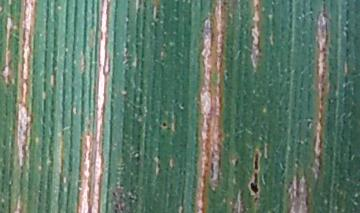tarspot: (247, 145, 262, 206), (230, 154, 242, 169), (159, 119, 170, 131)
